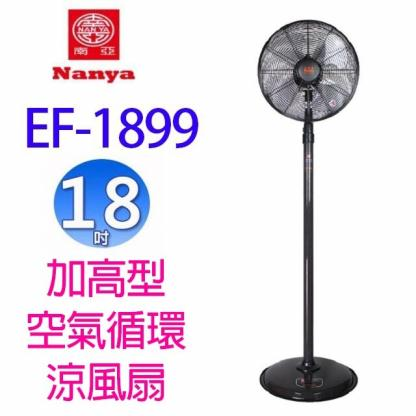fan: (251, 17, 364, 402)
